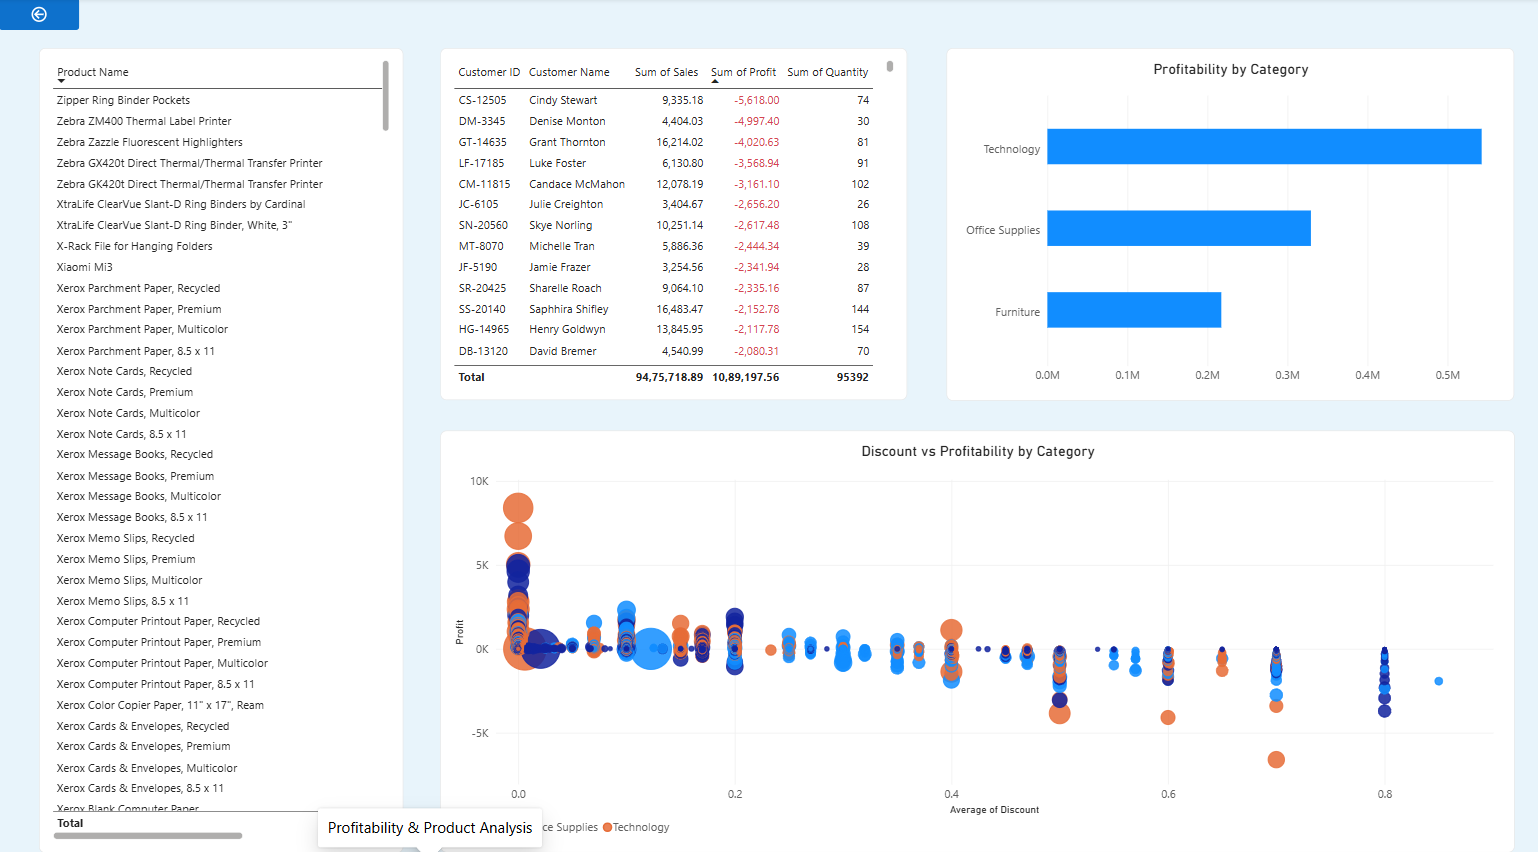

Layout of this report page (visuals, bound fields, positions):
{"tool":"powerbi","page":{"name":"Profitability & Product Analysis","canvas":[1920,1080],"ordinal":1},"visuals":[{"type":"actionButton","box":[0,0,100,40],"z":0},{"type":"tableEx","fields":{"Values":["Master Orders Table.Product Name","Sum(Master Orders Table.Sales)","Sum(Master Orders Table.Profit)","Sum(Master Orders Table.Quantity)"]},"box":[50,62,454,1004],"z":1000},{"type":"actionButton","box":[0,0,100,40],"z":2000},{"type":"tableEx","fields":{"Values":["Master Orders Table.Customer ID","Master Orders Table.Customer Name","Sum(Master Orders Table.Sales)","Sum(Master Orders Table.Profit)","Sum(Master Orders Table.Quantity)"]},"box":[550,62,582.6,439.5],"z":3000},{"type":"scatterChart","title":"Discount vs Profitability by Category","fields":{"Series":["Master Orders Table.Category"],"Size":["Sum(Master Orders Table.Sales)"],"X":["Avg(Master Orders Table.Discount)"],"Y":["Master Orders Table.Profit"]},"box":[550,540,1340,526],"z":3001},{"type":"clusteredBarChart","title":"Profitability by Category","fields":{"Category":["Master Orders Table.Category"],"Y":["Master Orders Table.Total Profits"]},"box":[1182,62,708,440],"z":3002}]}

Visuals, with their boxes on the page's 1920x1080 design canvas (x1, y1, x2, y2). These are canvas units, not pixel positions in the 1538x852 screenshot, which may show the page scaled, cropped or inside an application window:
actionButton: select_region(0, 0, 100, 40)
tableEx - Master Orders Table.Product Name x Sum(Master Orders Table.Sales): select_region(50, 62, 504, 1066)
actionButton: select_region(0, 0, 100, 40)
tableEx - Master Orders Table.Customer ID x Master Orders Table.Customer Name: select_region(550, 62, 1133, 502)
"Discount vs Profitability by Category" scatterChart: select_region(550, 540, 1890, 1066)
"Profitability by Category" clusteredBarChart: select_region(1182, 62, 1890, 502)
